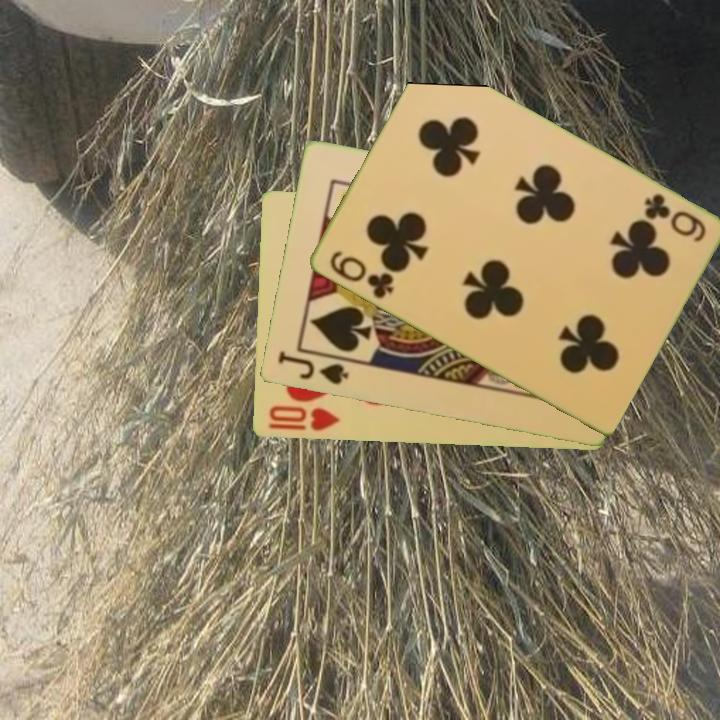10h: (265, 402, 342, 434)
6c: (325, 247, 396, 302), (640, 190, 709, 246)
Js: (274, 348, 351, 388)
